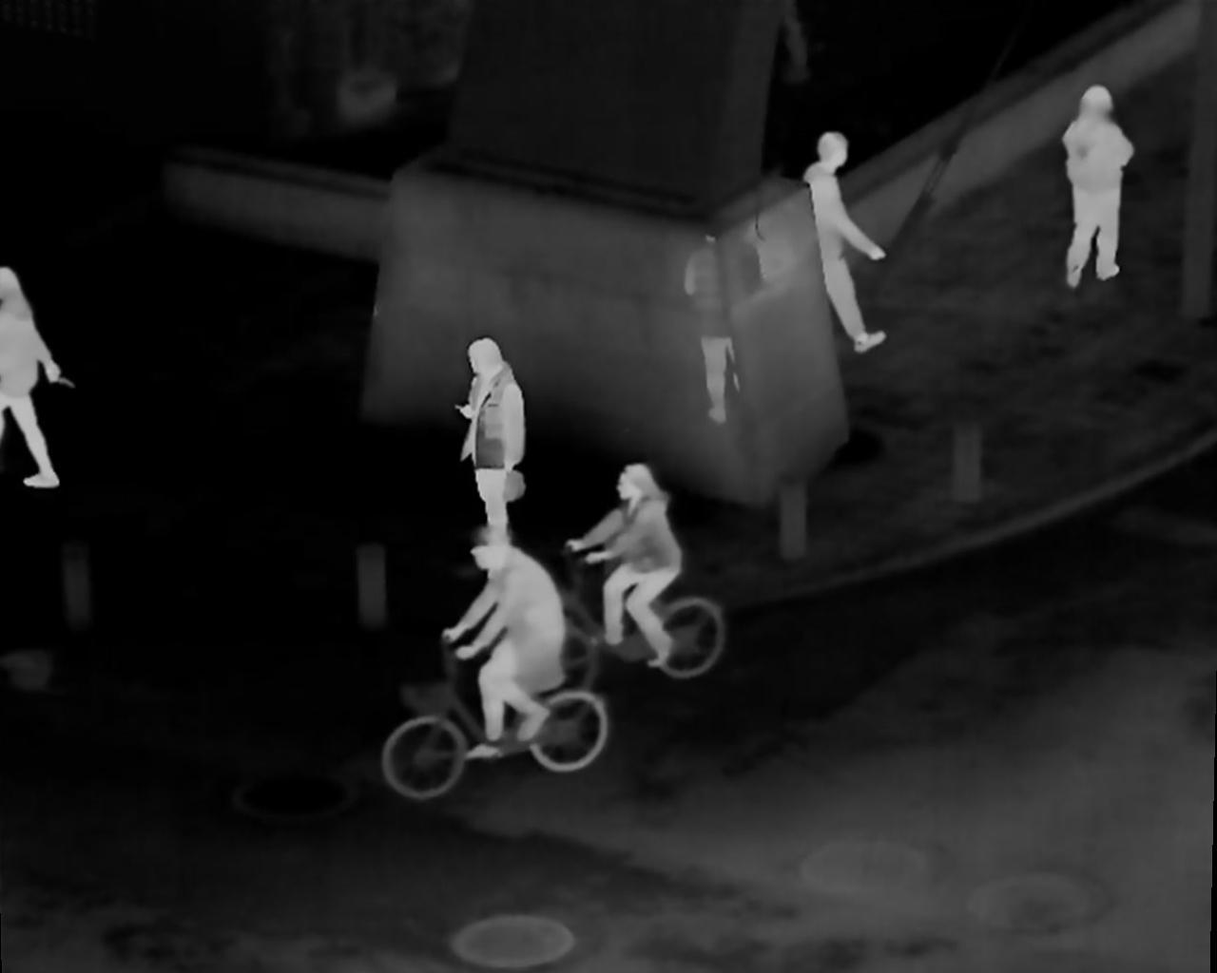person: (445, 531, 565, 763), (576, 467, 689, 677), (802, 131, 888, 361), (1054, 89, 1126, 289), (469, 337, 529, 575)
